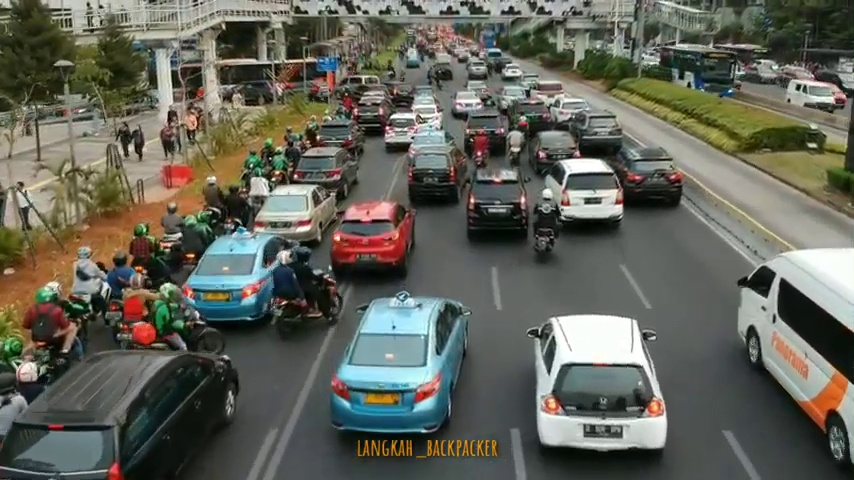car: (1, 346, 242, 480), (737, 249, 854, 468), (524, 305, 672, 458), (330, 291, 465, 432), (181, 220, 294, 326), (542, 155, 625, 232), (334, 201, 415, 270), (257, 182, 336, 246), (469, 168, 529, 243), (658, 44, 734, 102), (613, 146, 683, 208), (408, 145, 469, 208), (292, 147, 358, 199), (571, 108, 622, 153), (528, 129, 580, 173), (465, 108, 508, 156), (507, 97, 552, 140), (318, 121, 365, 160), (787, 80, 833, 116), (386, 112, 425, 153), (350, 100, 393, 136), (529, 81, 564, 113), (551, 97, 587, 125), (336, 74, 376, 96), (450, 91, 483, 116), (384, 78, 412, 105), (499, 87, 527, 111), (465, 60, 486, 81), (501, 61, 522, 80)
motorbike: (140, 280, 225, 360), (276, 246, 342, 337), (31, 280, 89, 364), (73, 249, 115, 324), (120, 275, 162, 347), (533, 188, 561, 257), (108, 251, 131, 331), (132, 221, 158, 286), (161, 201, 183, 271), (202, 178, 224, 222), (472, 130, 492, 170), (252, 167, 268, 213), (507, 124, 523, 169), (273, 148, 288, 190), (518, 113, 529, 149)
